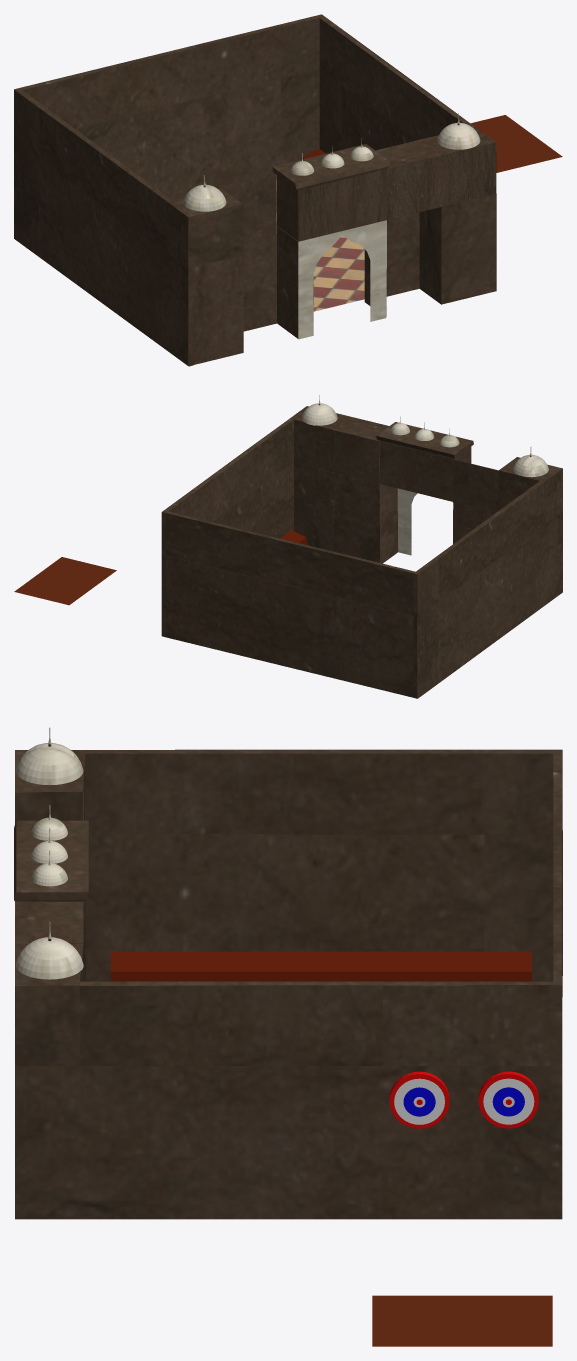
The model's file is Persian_academy_building.fbx.
3 views of the same model, one above another, from view 1: azimuth 30°, elevation 25°; view 2: azimuth 150°, elevation 25°; view 3: azimuth 270°, elevation 25° (orthographic). The views are drawn at different scales.
Parts seen in each view (by area): view 1: Circle, Plane, Plane.001; view 2: Circle, Plane.001; view 3: Circle, Cube.000, Plane.001, Cylinder.000, Cylinder.001.
Part boxes in pixels (<box>): Circle: <box>14,14,496,366</box>; Plane: <box>276,175,364,311</box>; Plane.001: <box>471,115,562,172</box>; Circle: <box>161,395,562,698</box>; Plane.001: <box>14,557,116,605</box>; Circle: <box>14,727,562,1219</box>; Cube.000: <box>111,951,531,981</box>; Plane.001: <box>372,1295,552,1346</box>; Cylinder.000: <box>389,1071,449,1128</box>; Cylinder.001: <box>478,1071,538,1128</box>.
Size of the model in its own units: 1471 by 526 by 913.
8 materials, 3 textured.
